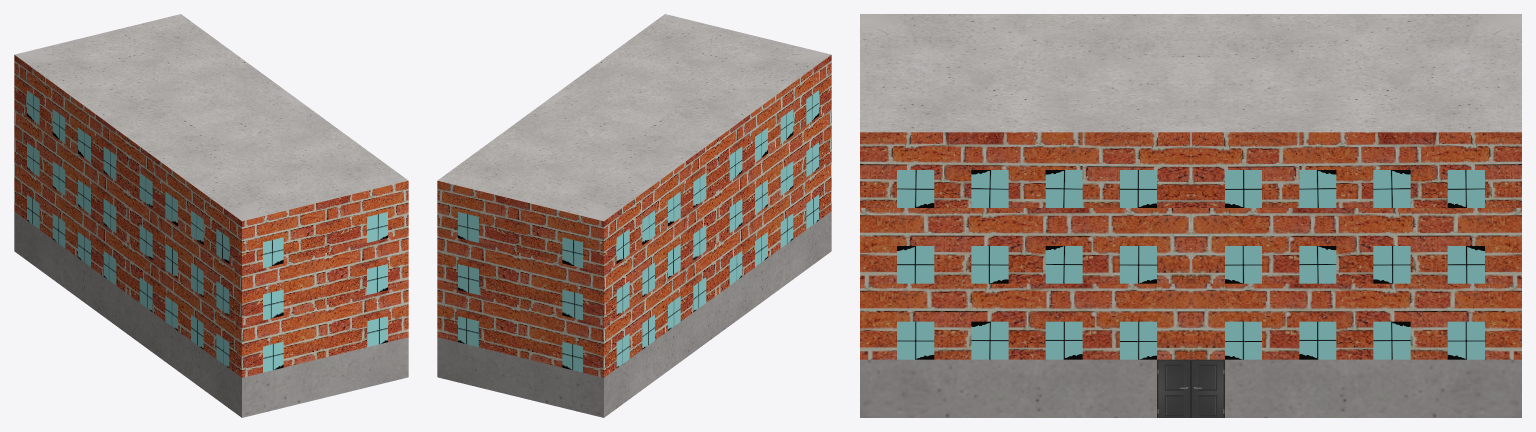
The model's file is building.fbx.
The picture shows the model from 3 angles, left to right: view 1: azimuth 30°, elevation 25°; view 2: azimuth 150°, elevation 25°; view 3: azimuth 270°, elevation 25°; orthographic projection. The views are drawn at different scales.
Parts seen in each view (by area): view 1: Building; view 2: Building; view 3: Building.
Part boxes in pixels (left/top/right/bottom): Building: left=14, top=14, right=408, bottom=417; Building: left=437, top=14, right=831, bottom=417; Building: left=860, top=14, right=1521, bottom=417.
Bounding box in the file's own units: 3732 × 4207 × 8831.
